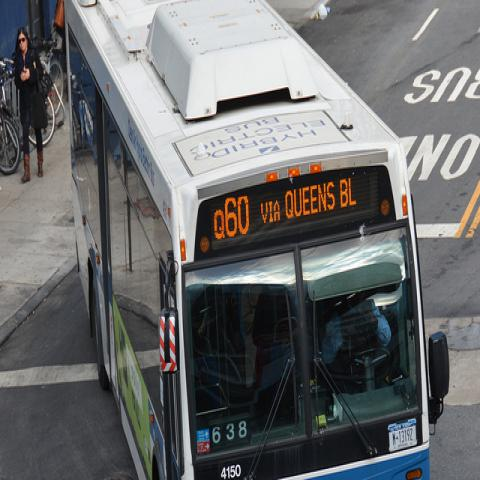bus: (63, 0, 451, 475)
